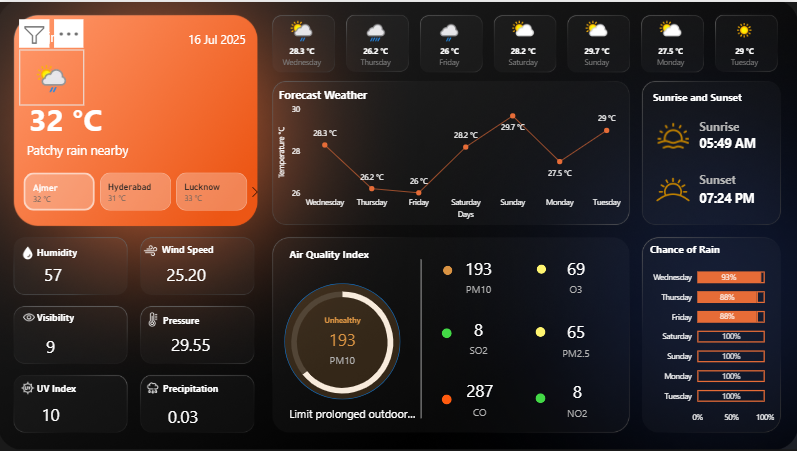

The dashboard page shown, as its layout file describes it:
{"tool":"powerbi","page":{"name":"Orange","canvas":[1280,720],"ordinal":0},"visuals":[{"type":"donutChart","fields":{"Y":["Sum(Current.current.air_quality.pm10)","Curr_Temp_C.Left_Value_PM10"]},"box":[444,438,214,214],"z":0},{"type":"shape","box":[458,450,186,186],"z":1000},{"type":"advancedSlicerVisual","fields":{"Values":["Locations.location.name"]},"box":[15.2,268.2,410.6,71.2],"z":2000},{"type":"shape","box":[50,134.8,198.5,104.5],"z":3000},{"type":"shape","box":[46.7,213.3,245,45],"z":4000},{"type":"shape","box":[66.7,31.8,180.3,45.5],"z":5000},{"type":"shape","box":[215.6,35.4,180.3,45.5],"z":6000},{"type":"image","box":[33.3,36.4,33.3,39.4],"z":7000},{"type":"cardVisual","fields":{"Data":["Min(Current.current.condition.icon)"]},"box":[33.3,76.7,105,90],"z":8000},{"type":"image","box":[34.3,488.6,31.4,32.9],"z":9000},{"type":"shape","box":[62.9,492.9,81.4,24.3],"z":10000},{"type":"image","box":[228.3,381.7,32,32],"z":11000},{"type":"image","box":[31.4,385.7,31.4,31.4],"z":12000},{"type":"image","box":[231.4,492.9,32,32],"z":13000},{"type":"shape","box":[62.9,388.6,81.4,24.3],"z":14000},{"type":"shape","box":[264.3,495.7,81.4,24.3],"z":15000},{"type":"shape","box":[262.9,382.9,148.6,27.1],"z":16000},{"type":"shape","box":[62.9,605.7,81.4,24.3],"z":17000},{"type":"shape","box":[263.6,606.1,93.9,24.2],"z":18000},{"type":"image","box":[232.9,602.9,31.4,31.4],"z":19000},{"type":"image","box":[31.4,602.9,31.4,31.4],"z":20000},{"type":"card","fields":{"Values":["Sum(Current.current.humidity)"]},"box":[55.7,410,64.3,55.7],"z":21000},{"type":"card","fields":{"Values":["Sum(Current.current.wind_kph)"]},"box":[255.7,410,90,55.7],"z":22000},{"type":"card","fields":{"Values":["Sum(Current.current.vis_km)"]},"box":[52.9,524.3,64.3,55.7],"z":23000},{"type":"card","fields":{"Values":["Sum(Current.current.pressure_in)"]},"box":[260,521.4,97.1,55.7],"z":24000},{"type":"card","fields":{"Values":["Sum(Current.current.uv)"]},"box":[52.9,634.3,64.3,55.7],"z":25000},{"type":"card","fields":{"Values":["Sum(Current.current.precip_in)"]},"box":[264.3,635.7,64.3,55.7],"z":26000},{"type":"advancedSlicerVisual","fields":{"Values":["Forecast_Day.Day_Name"]},"box":[426,18,834,104],"z":27000},{"type":"lineChart","title":"Forecast Weather","fields":{"Y":["Sum(Forecast_Day.forecast.forecastday.day.avgtemp_c)"],"Category":["Forecast_Day.Day_Name"]},"box":[443.9,136.4,565.2,216.7],"z":28000},{"type":"shape","box":[1048,136,158,30],"z":29000},{"type":"shape","box":[1122,204,114,42],"z":30000},{"type":"shape","box":[1122,280,94,64],"z":31000},{"type":"shape","box":[1122,178,124,42],"z":32000},{"type":"shape","box":[1122,268,66,30],"z":33000},{"type":"image","box":[1048,184,64,60],"z":34000},{"type":"image","box":[1040,248,80,104],"z":35000},{"type":"hundredPercentStackedBarChart","title":"Chance of Rain","fields":{"Y":["Sum(Forecast_Day.forecast.forecastday.day.daily_chance_of_rain)","Current.Left_Value_Rain"],"Category":["Forecast_Day.Day_Name"]},"box":[1037.9,383.3,209.1,298.5],"z":36000},{"type":"shape","box":[466,388,158,30],"z":37000},{"type":"card","fields":{"Values":["Sum(Current.current.air_quality.pm10)"]},"box":[718,394,102,88],"z":38000},{"type":"card","fields":{"Values":["Sum(Current.current.air_quality.o3)"]},"box":[874,394,102,88],"z":39000},{"type":"card","fields":{"Values":["Sum(Current.current.air_quality.so2)"]},"box":[718,492,102,88],"z":40000},{"type":"card","fields":{"Values":["Sum(Current.current.air_quality.co)"]},"box":[720,590,102,88],"z":41000},{"type":"card","fields":{"Values":["Sum(Current.current.air_quality.pm2_5)"]},"box":[874,496,102,88],"z":42000},{"type":"card","fields":{"Values":["Sum(Current.current.air_quality.no2)"]},"box":[876,592,102,88],"z":43000},{"type":"shape","box":[712,422,15,15],"z":44000},{"type":"shape","box":[710,628,16,16],"z":45000},{"type":"shape","box":[710,522,16,16],"z":46000},{"type":"shape","box":[862,420,15,15],"z":47000},{"type":"shape","box":[860,626,16,16],"z":48000},{"type":"shape","box":[860,520,16,16],"z":49000},{"type":"shape","box":[658,412,38,254],"z":50000},{"type":"card","fields":{"Values":["Sum(Current.current.air_quality.pm10)"]},"box":[500,500,102,88],"z":51000},{"type":"shape","box":[466,644,210,28],"z":52000}]}

Visuals, with their boxes in screenshot pixels (x1, y1, x2, y2), scaled from the page's 1280x720 canvas onto the 797x451 screenshot:
donutChart - Sum(Current.current.air_quality.pm10) x Curr_Temp_C.Left_Value_PM10: l=276, t=274, r=410, b=408
shape: l=285, t=282, r=401, b=398
advancedSlicerVisual - Locations.location.name: l=9, t=168, r=265, b=213
shape: l=31, t=84, r=155, b=150
shape: l=29, t=134, r=182, b=162
shape: l=42, t=20, r=154, b=48
shape: l=134, t=22, r=247, b=51
image: l=21, t=23, r=41, b=47
cardVisual - Min(Current.current.condition.icon): l=21, t=48, r=86, b=104
image: l=21, t=306, r=41, b=327
shape: l=39, t=309, r=90, b=324
image: l=142, t=239, r=162, b=259
image: l=20, t=242, r=39, b=261
image: l=144, t=309, r=164, b=329
shape: l=39, t=243, r=90, b=259
shape: l=165, t=311, r=215, b=326
shape: l=164, t=240, r=256, b=257
shape: l=39, t=379, r=90, b=395
shape: l=164, t=380, r=223, b=395
image: l=145, t=378, r=165, b=397
image: l=20, t=378, r=39, b=397
card - Sum(Current.current.humidity): l=35, t=257, r=75, b=292
card - Sum(Current.current.wind_kph): l=159, t=257, r=215, b=292
card - Sum(Current.current.vis_km): l=33, t=328, r=73, b=363
card - Sum(Current.current.pressure_in): l=162, t=327, r=222, b=361
card - Sum(Current.current.uv): l=33, t=397, r=73, b=432
card - Sum(Current.current.precip_in): l=165, t=398, r=205, b=433
advancedSlicerVisual - Forecast_Day.Day_Name: l=265, t=11, r=785, b=76
"Forecast Weather" lineChart: l=276, t=85, r=628, b=221
shape: l=653, t=85, r=751, b=104
shape: l=699, t=128, r=770, b=154
shape: l=699, t=175, r=757, b=215
shape: l=699, t=111, r=776, b=138
shape: l=699, t=168, r=740, b=187
image: l=653, t=115, r=692, b=153
image: l=648, t=155, r=697, b=220
"Chance of Rain" hundredPercentStackedBarChart: l=646, t=240, r=776, b=427
shape: l=290, t=243, r=389, b=262
card - Sum(Current.current.air_quality.pm10): l=447, t=247, r=511, b=302
card - Sum(Current.current.air_quality.o3): l=544, t=247, r=608, b=302
card - Sum(Current.current.air_quality.so2): l=447, t=308, r=511, b=363
card - Sum(Current.current.air_quality.co): l=448, t=370, r=512, b=425
card - Sum(Current.current.air_quality.pm2_5): l=544, t=311, r=608, b=366
card - Sum(Current.current.air_quality.no2): l=545, t=371, r=609, b=426
shape: l=443, t=264, r=453, b=274
shape: l=442, t=393, r=452, b=403
shape: l=442, t=327, r=452, b=337
shape: l=537, t=263, r=546, b=272
shape: l=535, t=392, r=545, b=402
shape: l=535, t=326, r=545, b=336
shape: l=410, t=258, r=433, b=417
card - Sum(Current.current.air_quality.pm10): l=311, t=313, r=375, b=368
shape: l=290, t=403, r=421, b=421
